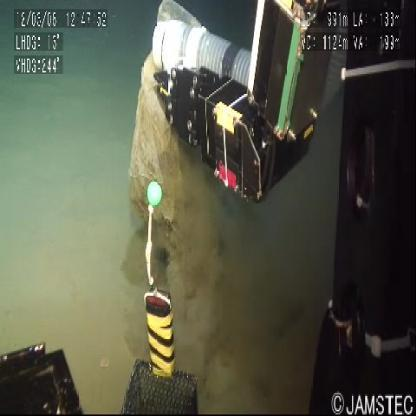Rác: (127, 53, 217, 246)
